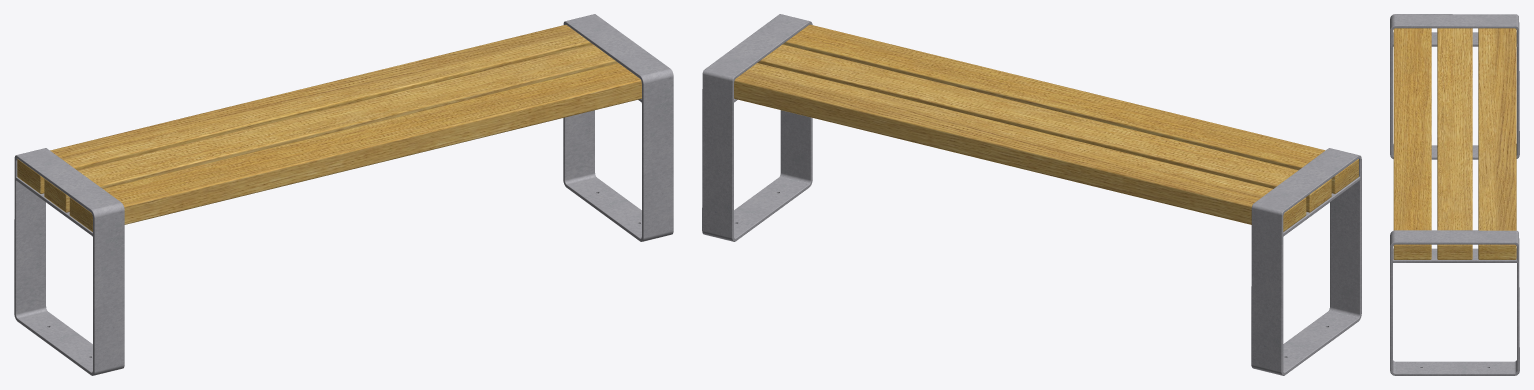
The model's file is marina_bench.glb.
The picture shows the model from 3 angles, left to right: view 1: azimuth 30°, elevation 25°; view 2: azimuth 150°, elevation 25°; view 3: azimuth 270°, elevation 25°; orthographic projection. The views are drawn at different scales.
Parts seen in each view (by area): view 1: Plane.001, Plane.002; view 2: Plane.001, Plane.002; view 3: Plane.001, Plane.002.
Boxes of the visible parts, box(x1,y1,x2,y2) form: Plane.001: box(17, 25, 641, 231); Plane.002: box(14, 14, 673, 375); Plane.001: box(734, 24, 1358, 231); Plane.002: box(702, 14, 1361, 375); Plane.001: box(1393, 28, 1516, 259); Plane.002: box(1390, 14, 1519, 375).
Size of what is drawn, in the model's own units: 1.9 by 0.52 by 0.4566.
2 materials, 2 textured.
